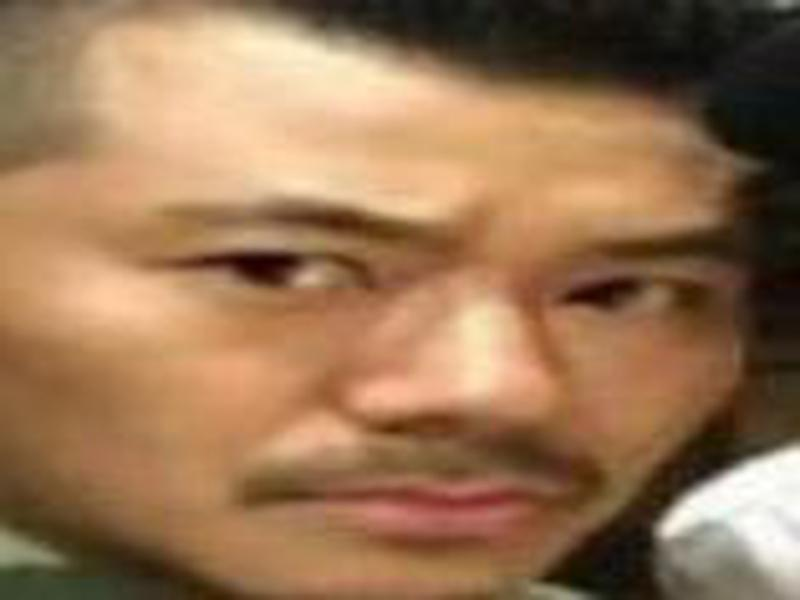without_mask: (7, 14, 740, 597)
